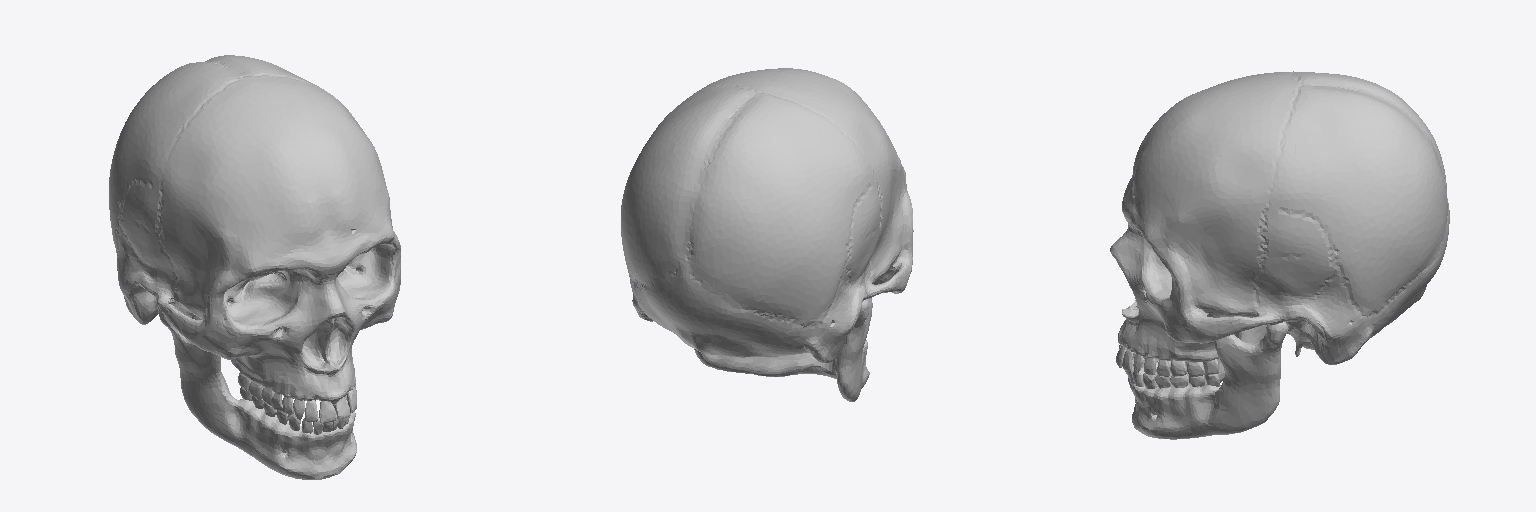
Rendered from skull.obj.
The picture shows the model from 3 angles: view 1: azimuth 30°, elevation 25°; view 2: azimuth 150°, elevation 25°; view 3: azimuth 270°, elevation 25°; orthographic projection.
Parts seen in each view (by area): view 1: Mesh_0.002_Mesh_0.002_defaultMat; view 2: Mesh_0.002_Mesh_0.002_defaultMat; view 3: Mesh_0.002_Mesh_0.002_defaultMat.
Part boxes in pixels (x1,y1,x2,y2): Mesh_0.002_Mesh_0.002_defaultMat: (109,55,400,479); Mesh_0.002_Mesh_0.002_defaultMat: (621,68,913,401); Mesh_0.002_Mesh_0.002_defaultMat: (1110,71,1449,439).
Bounding box in the file's own units: 0.3904 × 0.5834 × 0.5225.